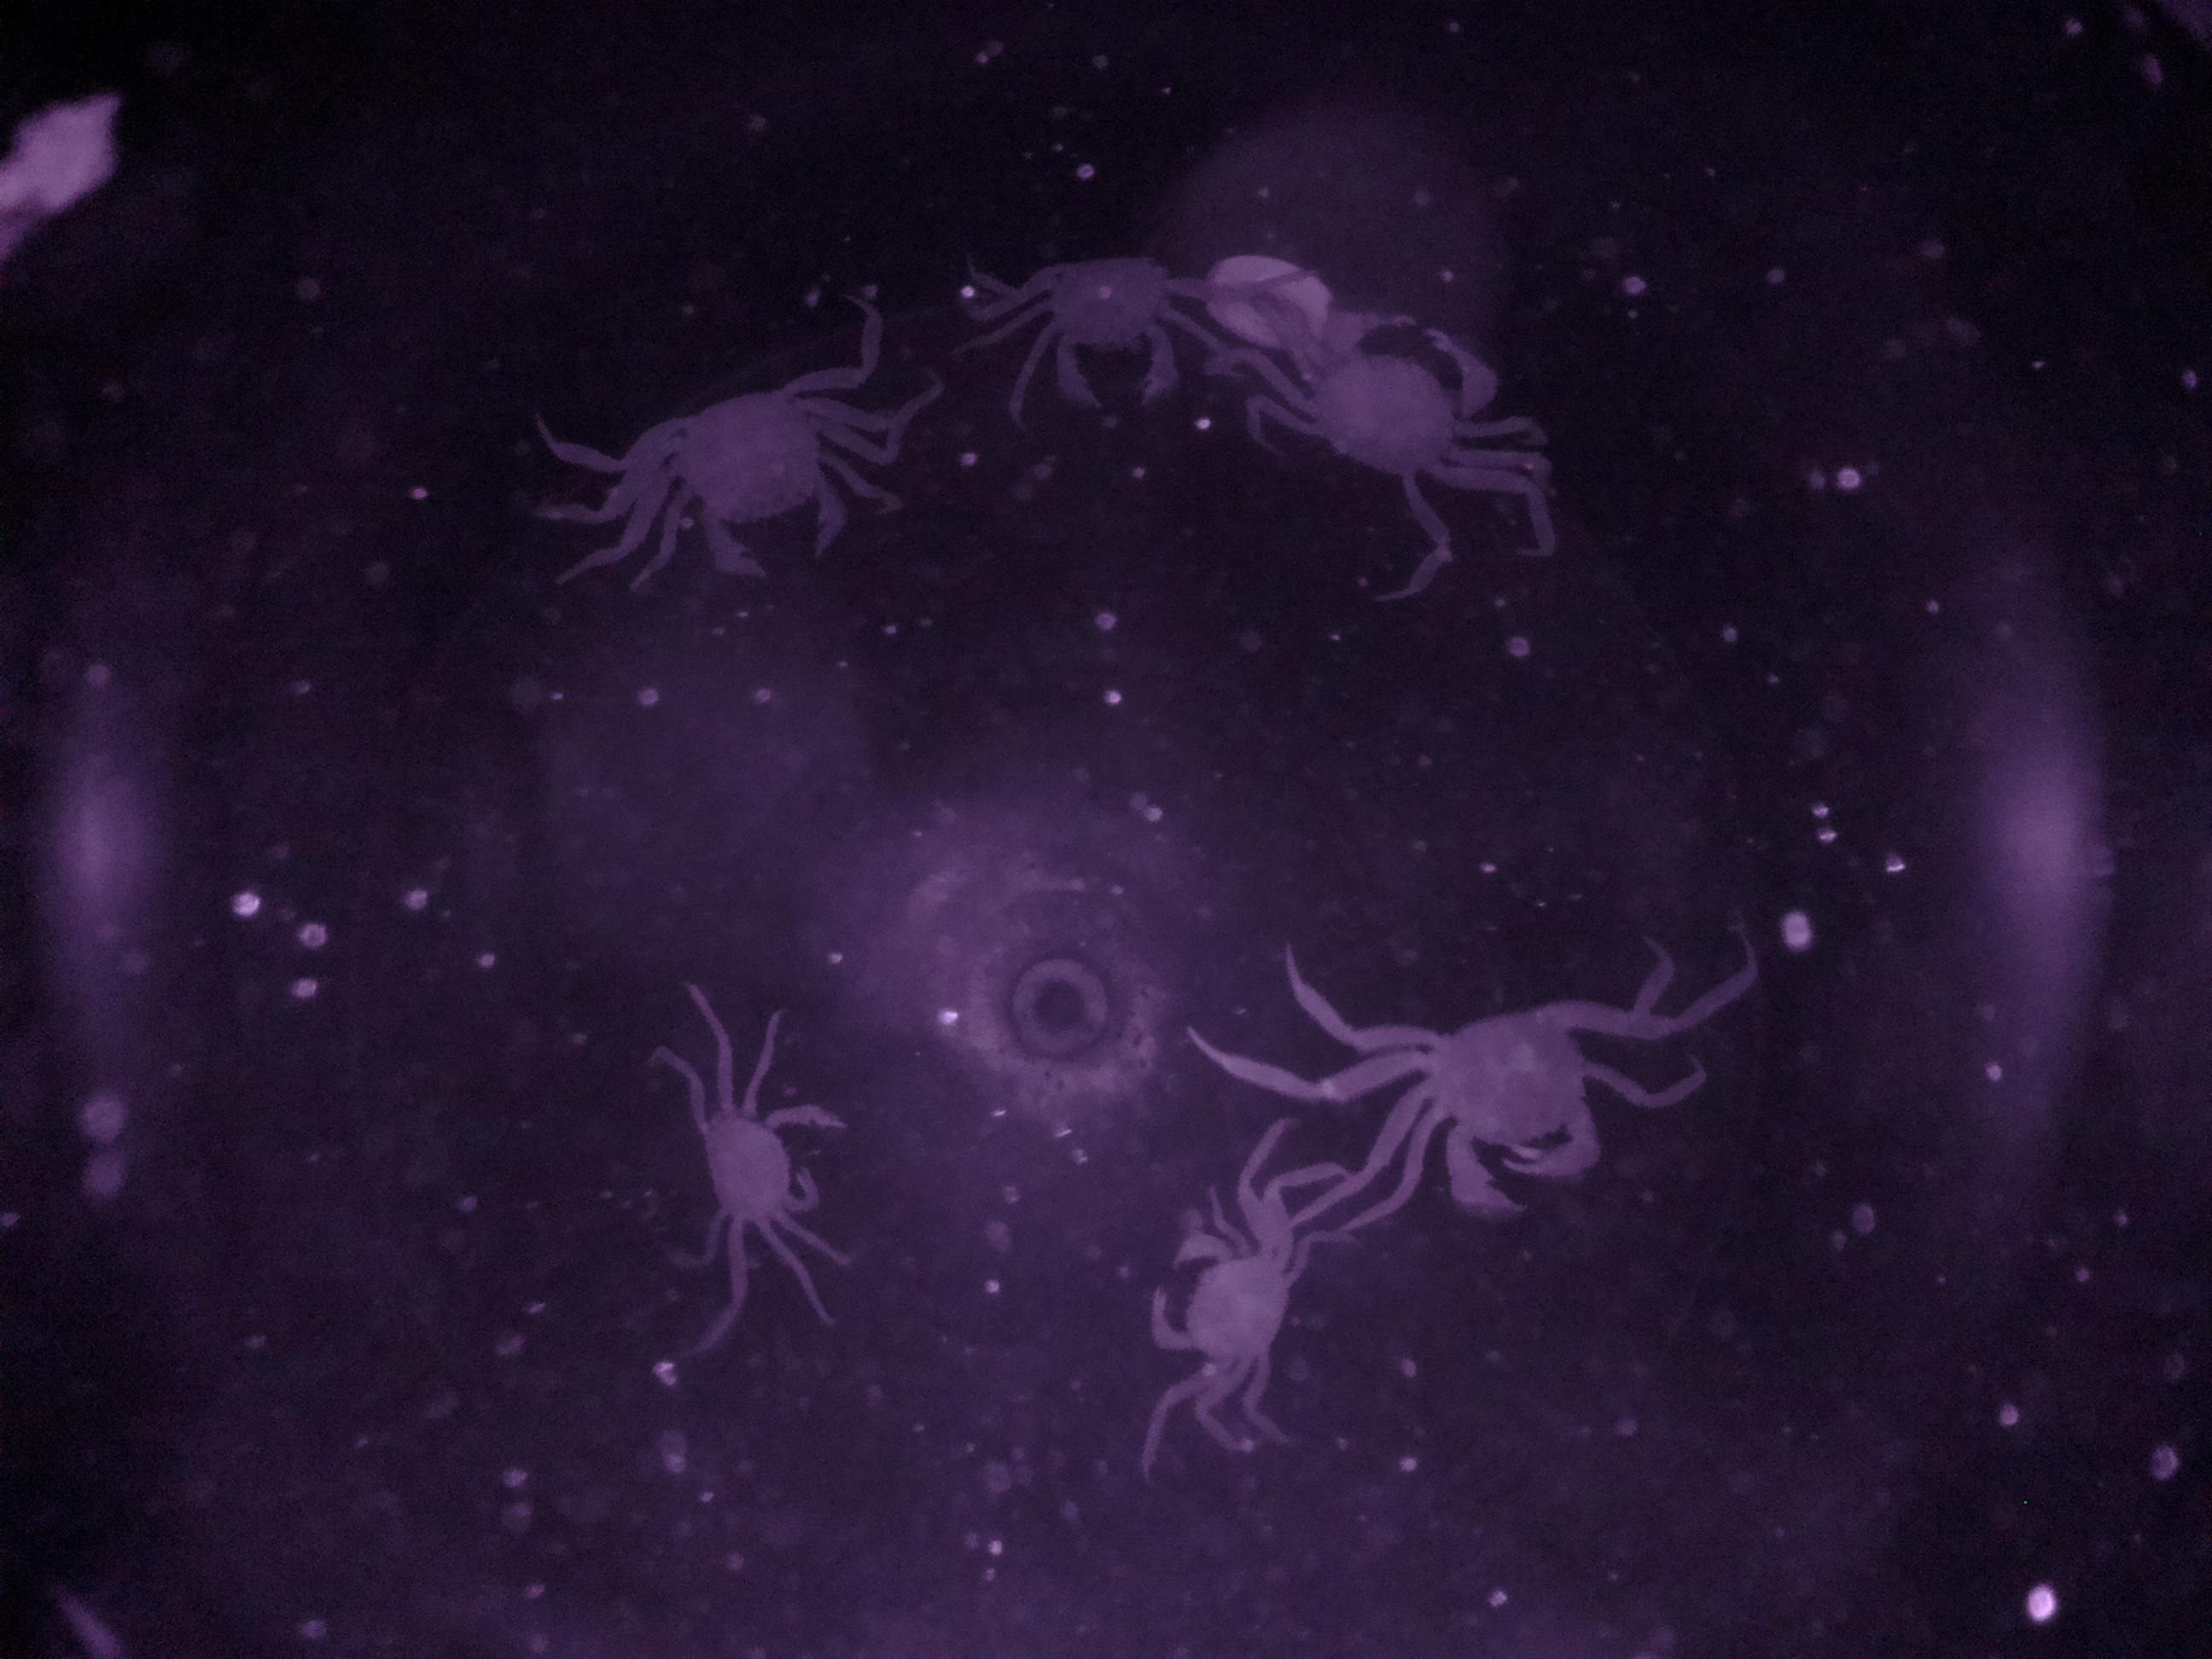Crab: (1332, 971, 1655, 1237), (617, 343, 878, 596), (1284, 284, 1526, 514), (998, 221, 1214, 430), (676, 1054, 855, 1274), (1139, 1188, 1318, 1398)
